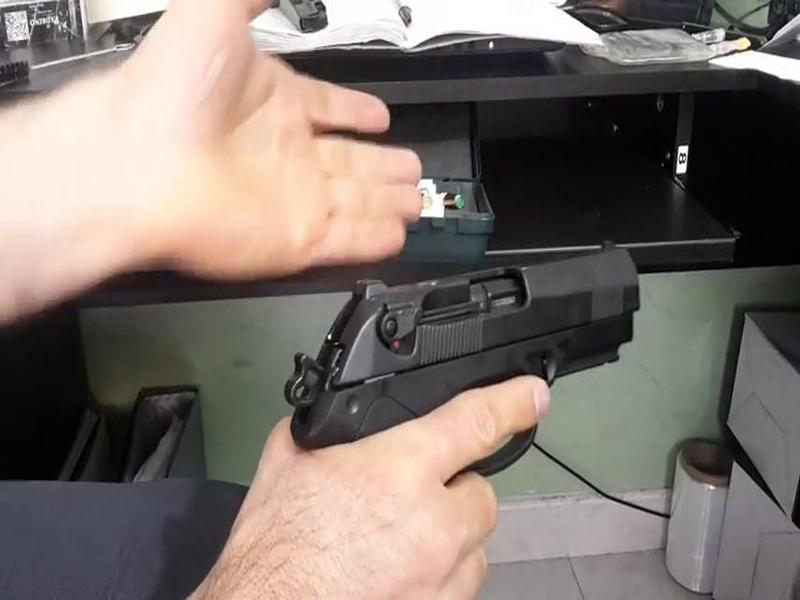Pistola: (280, 236, 645, 485)
